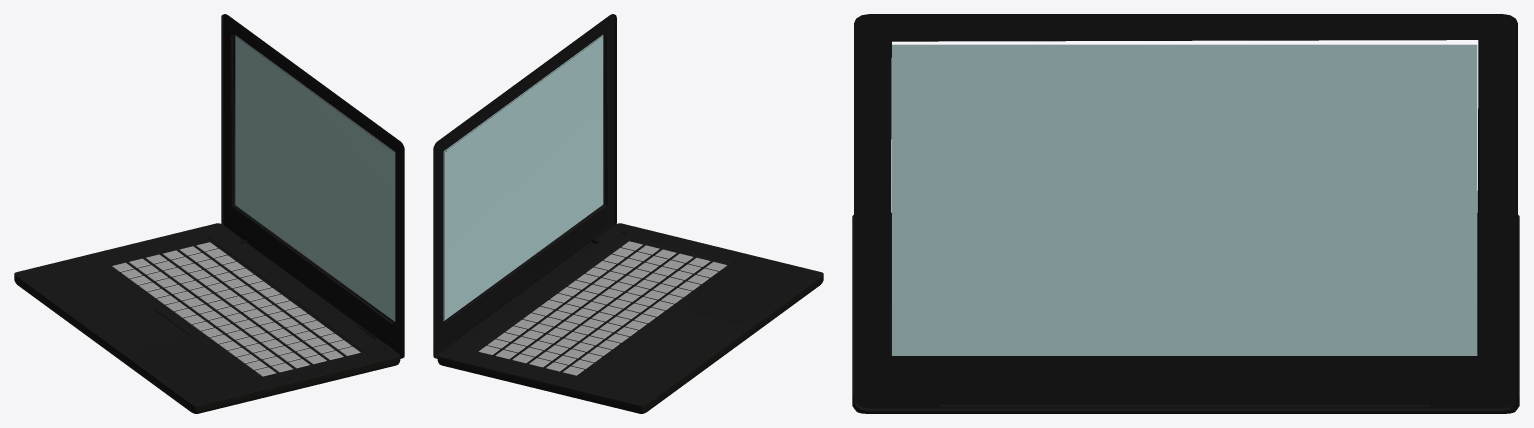
File: laptop.gltf
3 renders of one model, left to right at view 1: azimuth 30°, elevation 25°; view 2: azimuth 150°, elevation 25°; view 3: azimuth 270°, elevation 25°, orthographic. The views are drawn at different scales.
Visible parts, largest first — view 1: Cube.001; view 2: Cube.001; view 3: Cube.001.
Boxes of the visible parts, left/top/right/bottom form: Cube.001: left=14, top=14, right=404, bottom=413; Cube.001: left=433, top=14, right=823, bottom=413; Cube.001: left=852, top=14, right=1519, bottom=413.
Bounding box in the file's own units: 3.5 × 3.47 × 5.21.
